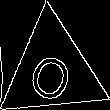O_NE: (24, 38, 80, 102)
